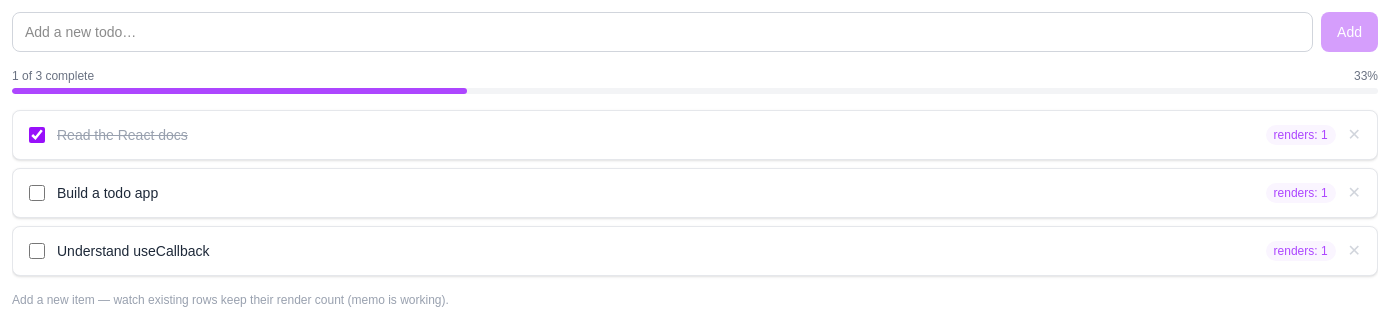
it: TodoList — deleting › removes a todo when its delete button is clicked
This screenshot has width=1390, height=324.
Click the button named "Delete" at (1354, 135), box [1348, 123, 1361, 147]
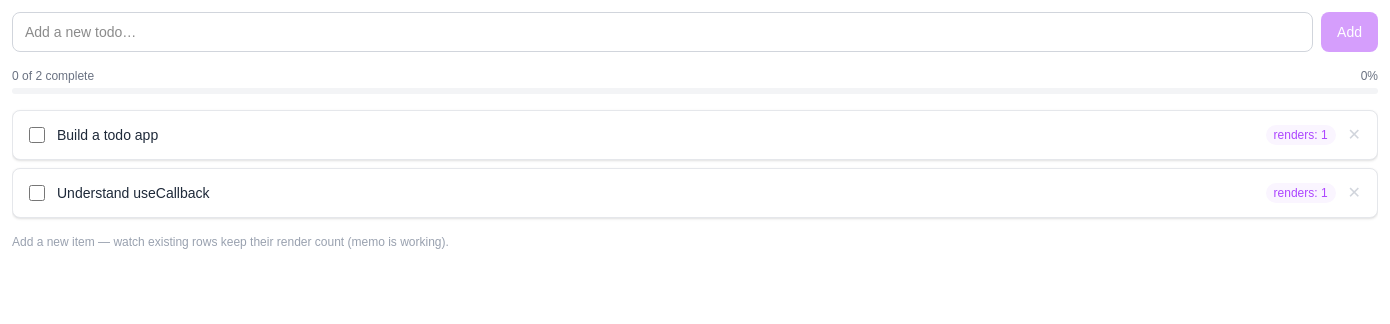
expect the text "Read the React docs" is gone: met
